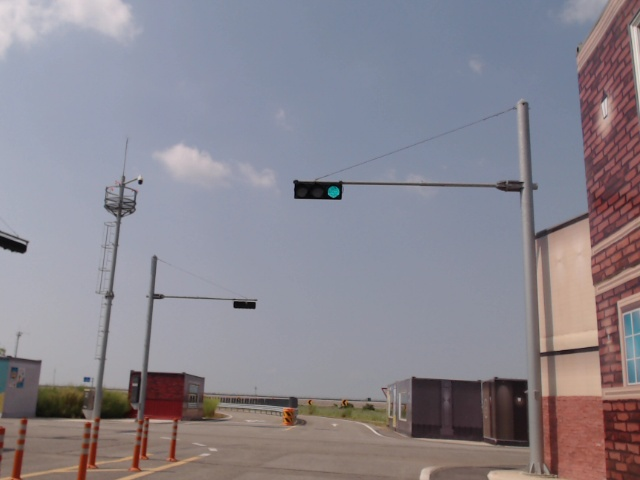green_3: (294, 181, 343, 201)
